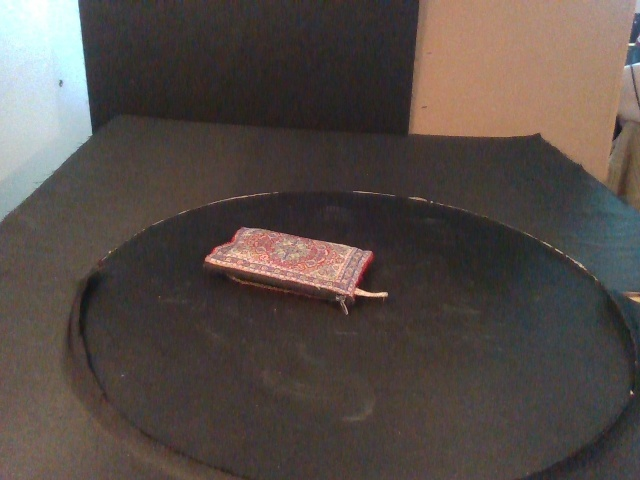pencil_case: (201, 225, 375, 305)
